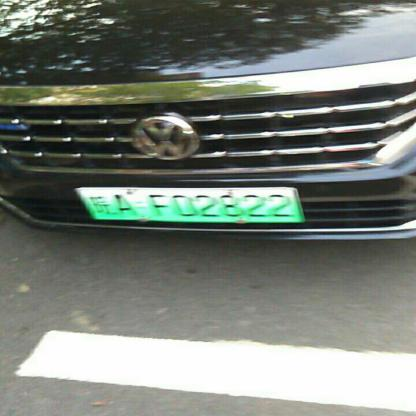lp: (74, 186, 304, 221)
